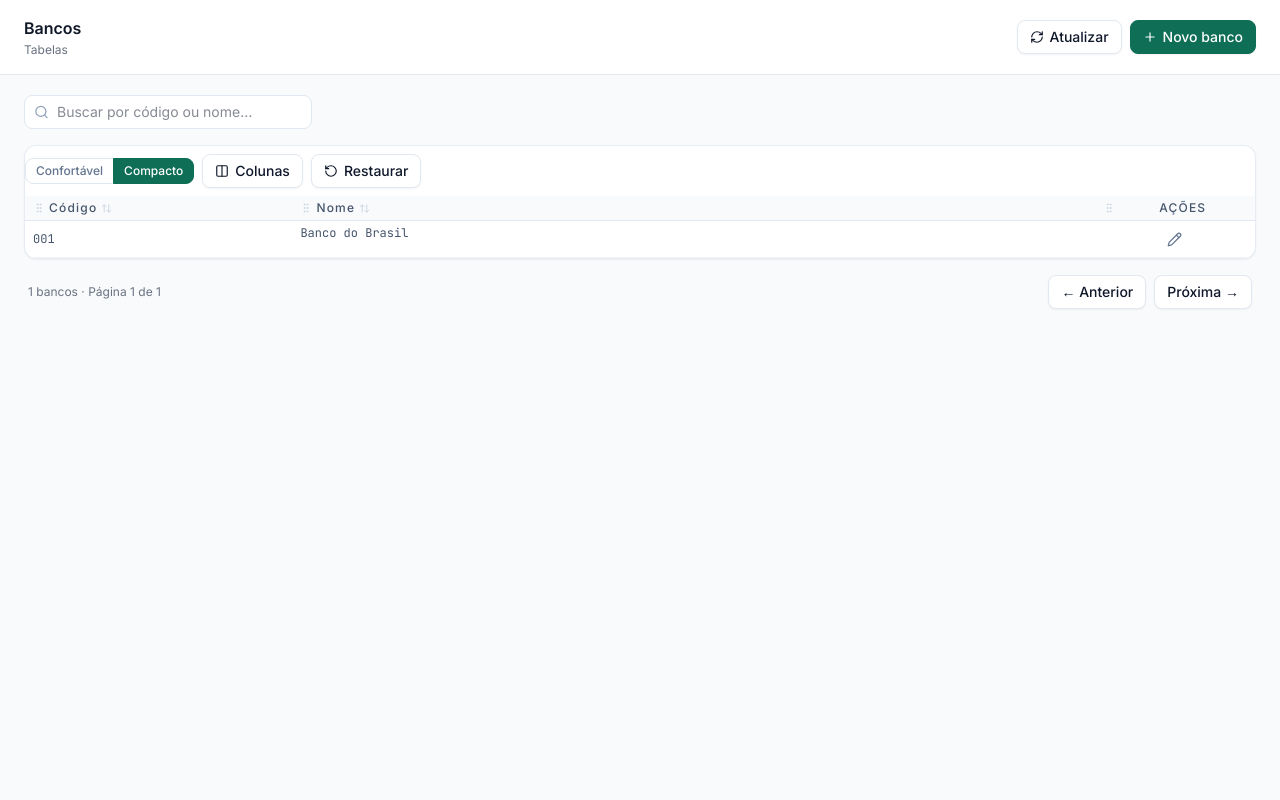
Scenario: BanksPage › abre o modal ao clicar em "Novo banco"
Expected: the text "Banco do Brasil" is shown, [292,220,1095,258]
Click the button "Novo banco": (1193, 37) [1130,20,1256,54]
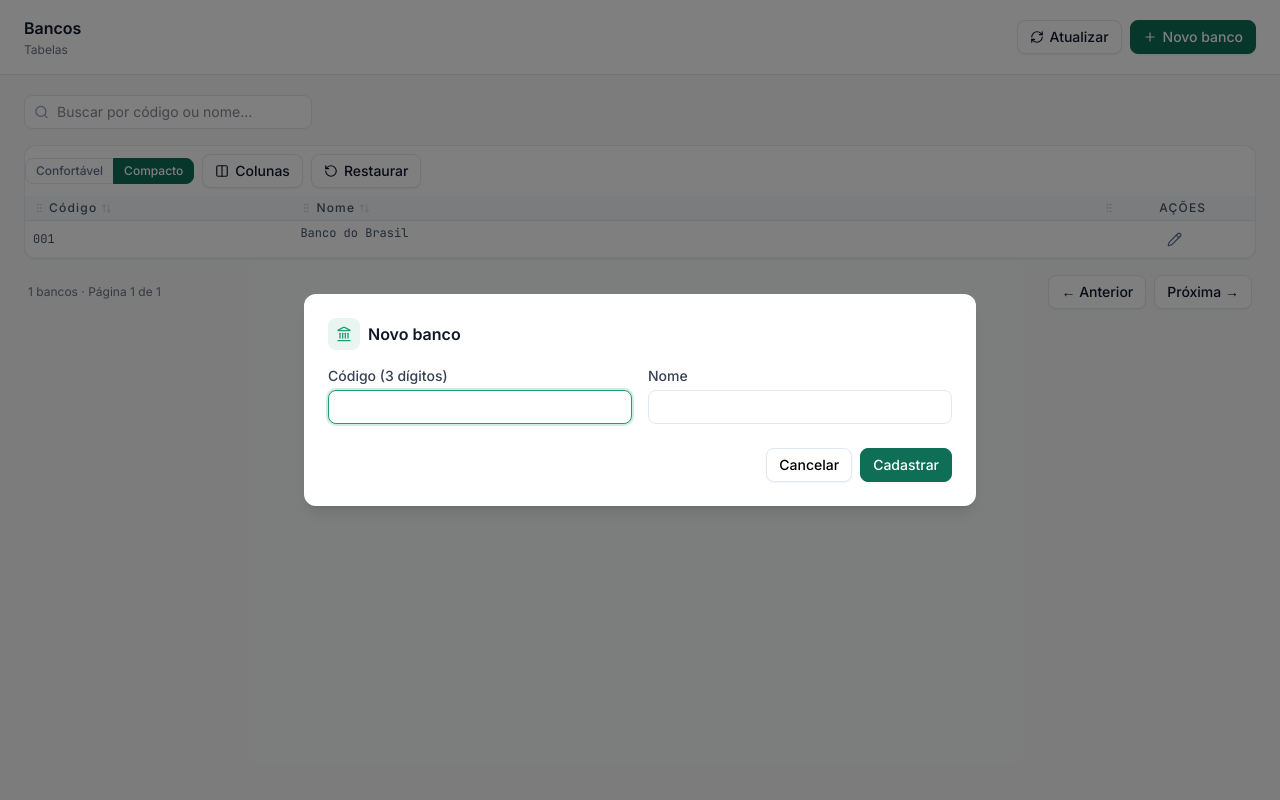
Expected: the button "Cadastrar" is shown, [860,448,952,482]
